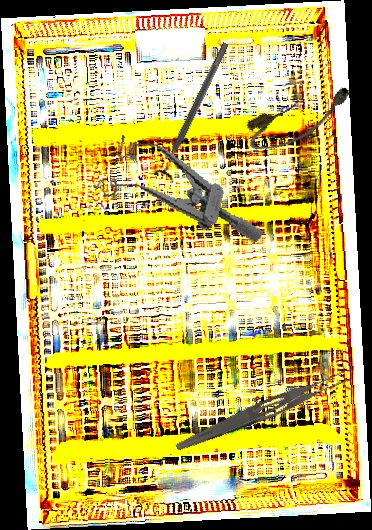Cannula: (241, 79, 360, 159)
Dressing Forceps: (173, 365, 352, 460)
Fixation Ring: (152, 38, 237, 184)
Speculum: (87, 131, 278, 243)
